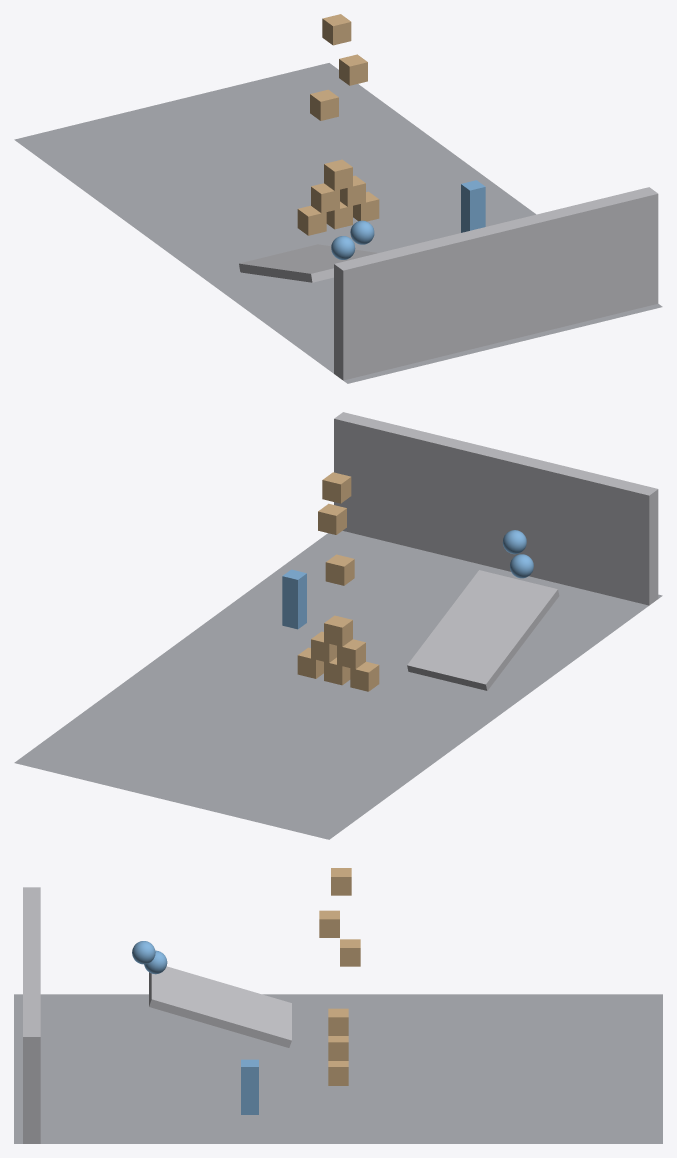
File: physics.gltf
3 views of the same model, one above another, from view 1: azimuth 30°, elevation 25°; view 2: azimuth 150°, elevation 25°; view 3: azimuth 270°, elevation 25° (orthographic). The views are drawn at different scales.
Visible parts, largest first — view 1: ground, wall, ramp, player, drop_2, drop_0, drop_1, crate_5, crate_0, crate_3, crate_2, crate_4; view 2: ground, wall, ramp, player, drop_2, drop_0, crate_5, drop_1, crate_0, crate_3; view 3: ground, ramp, wall, player, crate_5, drop_0, drop_1, drop_2, crate_2, crate_4, ball_1.
Boxes of the visible parts, bbox=[...] form: ground: bbox=[14, 63, 662, 383]; wall: bbox=[334, 187, 658, 380]; ramp: bbox=[239, 244, 377, 282]; player: bbox=[461, 180, 485, 232]; drop_2: bbox=[322, 14, 351, 45]; drop_0: bbox=[310, 89, 338, 120]; drop_1: bbox=[339, 54, 367, 85]; crate_5: bbox=[324, 159, 352, 190]; crate_0: bbox=[297, 205, 326, 235]; crate_3: bbox=[311, 183, 339, 213]; crate_2: bbox=[353, 191, 379, 221]; crate_4: bbox=[340, 175, 365, 206]; ground: bbox=[14, 531, 662, 839]; wall: bbox=[334, 412, 658, 605]; ramp: bbox=[407, 570, 559, 690]; player: bbox=[282, 569, 306, 629]; drop_2: bbox=[322, 472, 351, 503]; drop_0: bbox=[325, 554, 354, 585]; crate_5: bbox=[324, 615, 352, 646]; drop_1: bbox=[318, 503, 346, 534]; crate_0: bbox=[350, 661, 379, 691]; crate_3: bbox=[337, 639, 365, 669]; ground: bbox=[14, 994, 662, 1143]; ramp: bbox=[149, 966, 291, 1047]; wall: bbox=[23, 887, 40, 1143]; player: bbox=[241, 1059, 258, 1114]; crate_5: bbox=[328, 1008, 348, 1035]; drop_0: bbox=[340, 939, 360, 966]; drop_1: bbox=[319, 910, 339, 937]; drop_2: bbox=[331, 868, 351, 895]; crate_2: bbox=[328, 1061, 348, 1085]; crate_4: bbox=[328, 1036, 348, 1060]; ball_1: bbox=[132, 941, 155, 964].
Bounding box in the file's own units: 12 × 7.37 × 22.
